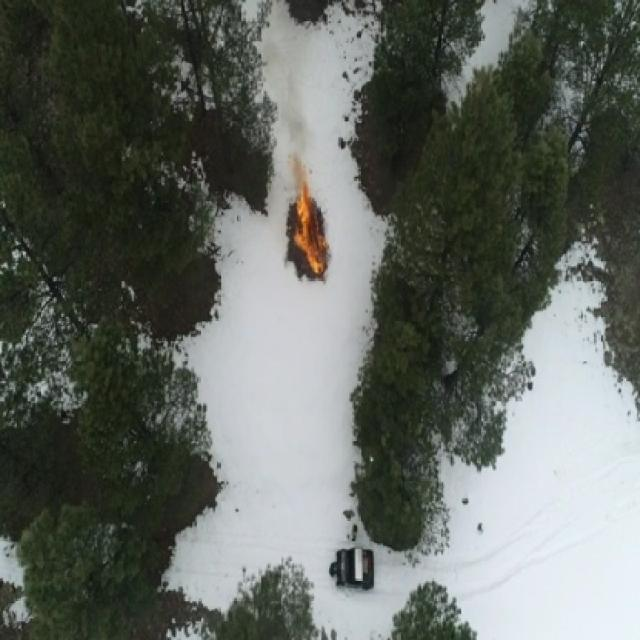Fire: (286, 151, 329, 277)
